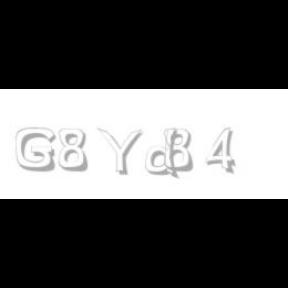4: (204, 128, 235, 174)
8: (58, 128, 88, 172), (164, 128, 192, 172)
G: (15, 128, 55, 172)
Y: (97, 128, 143, 176)
d: (145, 128, 182, 180)
